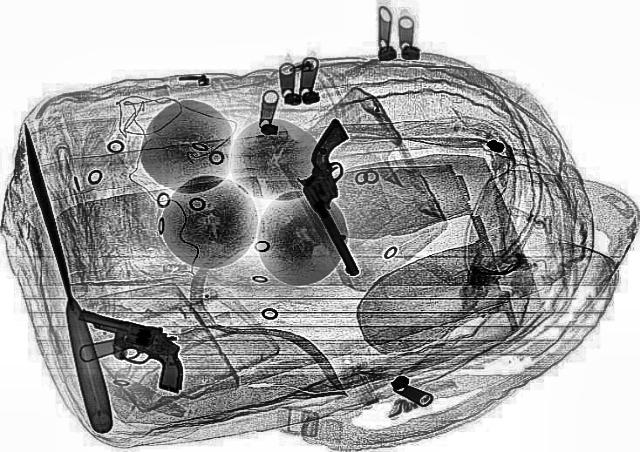Gun: (270, 118, 414, 276), (51, 306, 216, 392)
Knife: (7, 122, 117, 432)
